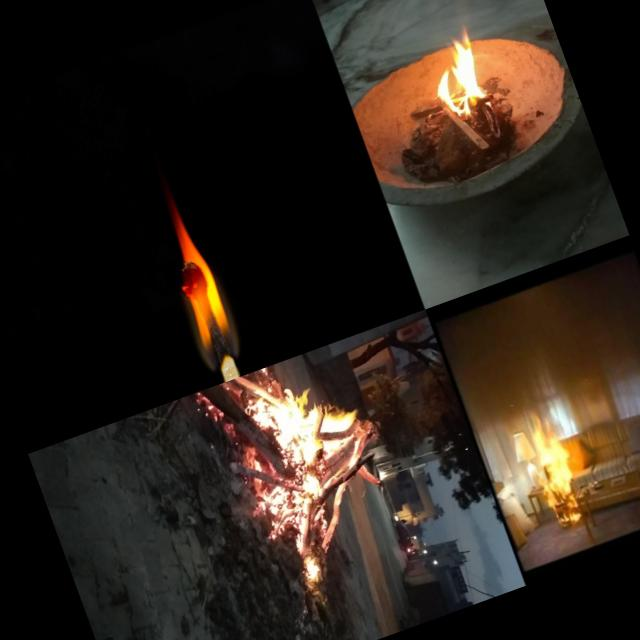fire: (248, 394, 470, 640), (135, 178, 253, 370), (412, 19, 512, 128), (514, 404, 593, 532)
